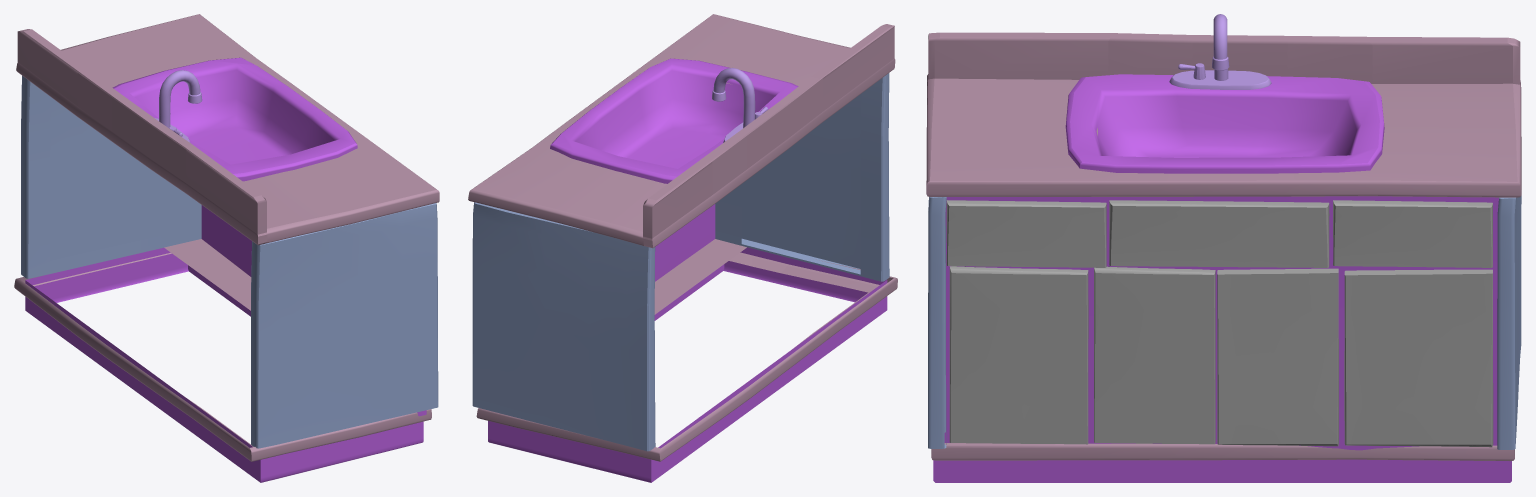
The model's file is Friday_KitchenSink 1.fbx.
3 renders of one model, left to right at view 1: azimuth 30°, elevation 25°; view 2: azimuth 150°, elevation 25°; view 3: azimuth 270°, elevation 25°, orthographic. The views are drawn at different scales.
Parts seen in each view (by area): view 1: Sink, Sink3, Sink_pt1, Faucet; view 2: Sink, Sink3, Sink_pt1, Faucet; view 3: Sink1, Sink3, Sink_pt1, Sink, Faucet.
Boxes of the visible parts, <box> form: Sink: <box>21,75,438,448</box>; Sink3: <box>14,14,439,461</box>; Sink_pt1: <box>25,57,426,482</box>; Faucet: <box>154,70,202,142</box>; Sink: <box>472,73,889,451</box>; Sink3: <box>468,14,897,461</box>; Sink_pt1: <box>488,58,887,482</box>; Faucet: <box>712,67,755,142</box>; Sink1: <box>946,200,1493,447</box>; Sink3: <box>926,32,1521,461</box>; Sink_pt1: <box>933,74,1511,482</box>; Sink: <box>928,195,1521,449</box>; Faucet: <box>1169,14,1271,89</box>.
Size of the model in its own units: 31.72 by 50.59 by 69.93.
